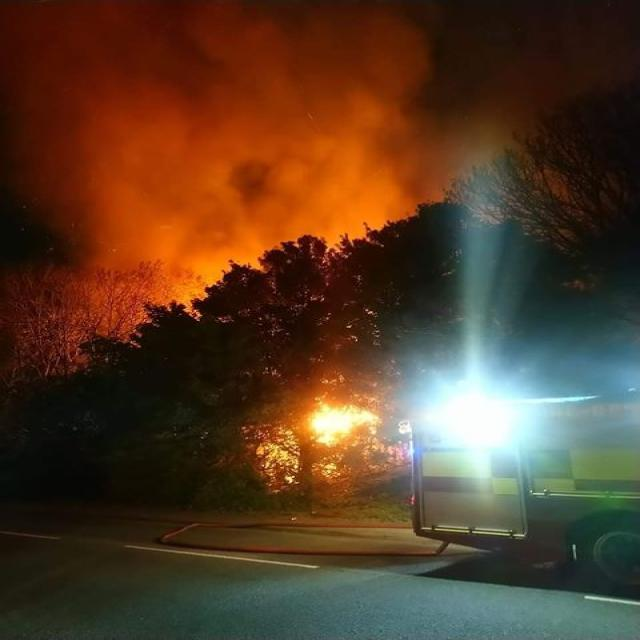Smoke: (0, 0, 445, 364)
